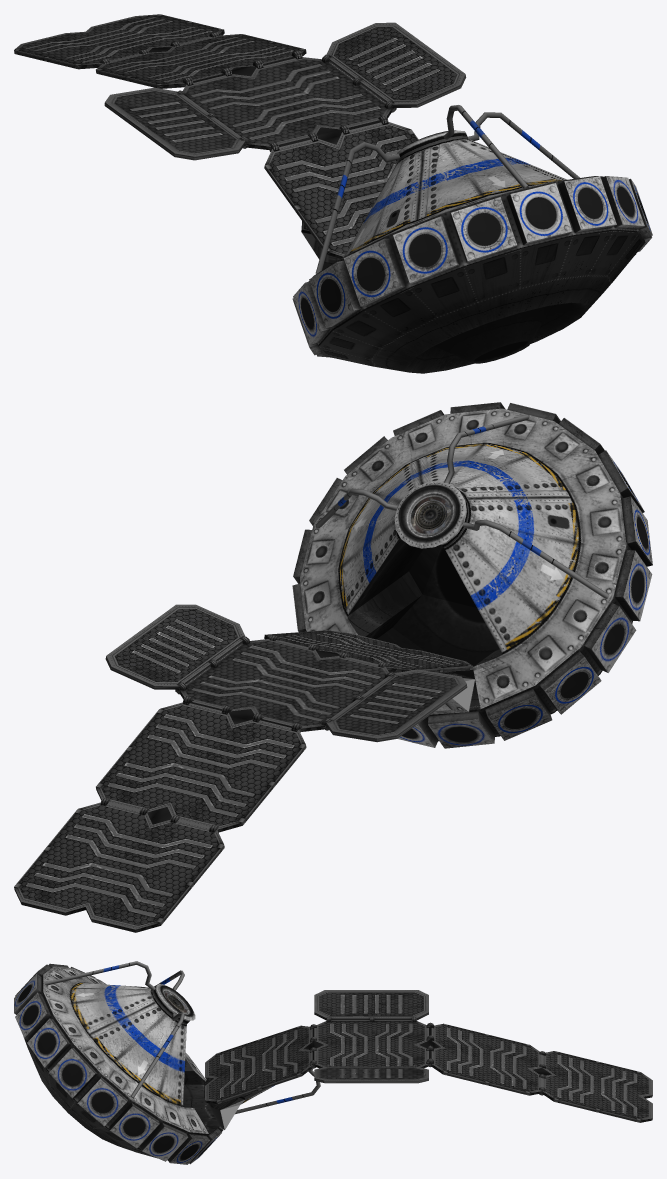
The model's file is crash_pod.dae.
3 views of the same model, one above another, from view 1: azimuth 30°, elevation 25°; view 2: azimuth 150°, elevation 25°; view 3: azimuth 270°, elevation 25° (orthographic). The views are drawn at different scales.
Parts seen in each view (by area): view 1: space_ship, platform; view 2: space_ship, platform, ship_door; view 3: space_ship, platform, ship_door.
Boxes of the visible parts, x1=… form: space_ship: x1=292, y1=105, x2=652, y2=373; platform: x1=14, y1=14, x2=466, y2=258; space_ship: x1=292, y1=402, x2=652, y2=748; platform: x1=14, y1=604, x2=473, y2=932; ship_door: x1=389, y1=671, x2=475, y2=714; space_ship: x1=14, y1=961, x2=223, y2=1164; platform: x1=205, y1=990, x2=652, y2=1122; ship_door: x1=204, y1=1068, x2=320, y2=1129.
Size of the model in its own units: 6.44 by 16.72 by 5.38.
Materials: 2 (2 with a texture image).
